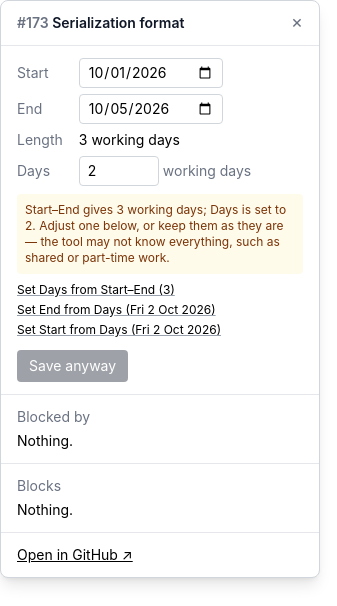
Test: TaskDetail › Days › warns when shortening the End below Days
Type "2026-10-01" into the date field with id "detail-due".
click(151, 109); type("2026-10-01")  # box x1=79 y1=94 x2=223 y2=124
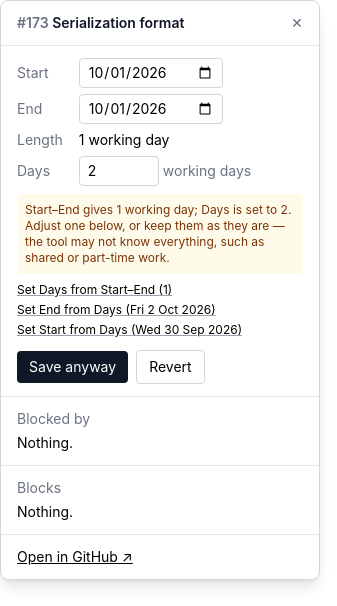
Expected: the button "Save anyway" is shown, x1=17 y1=351 x2=128 y2=383
Now the text "Start–End gives 1 working day; Days is set to 2." is shown, box x1=25 y1=202 x2=291 y2=265
